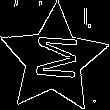M_W: (28, 34, 80, 84)
